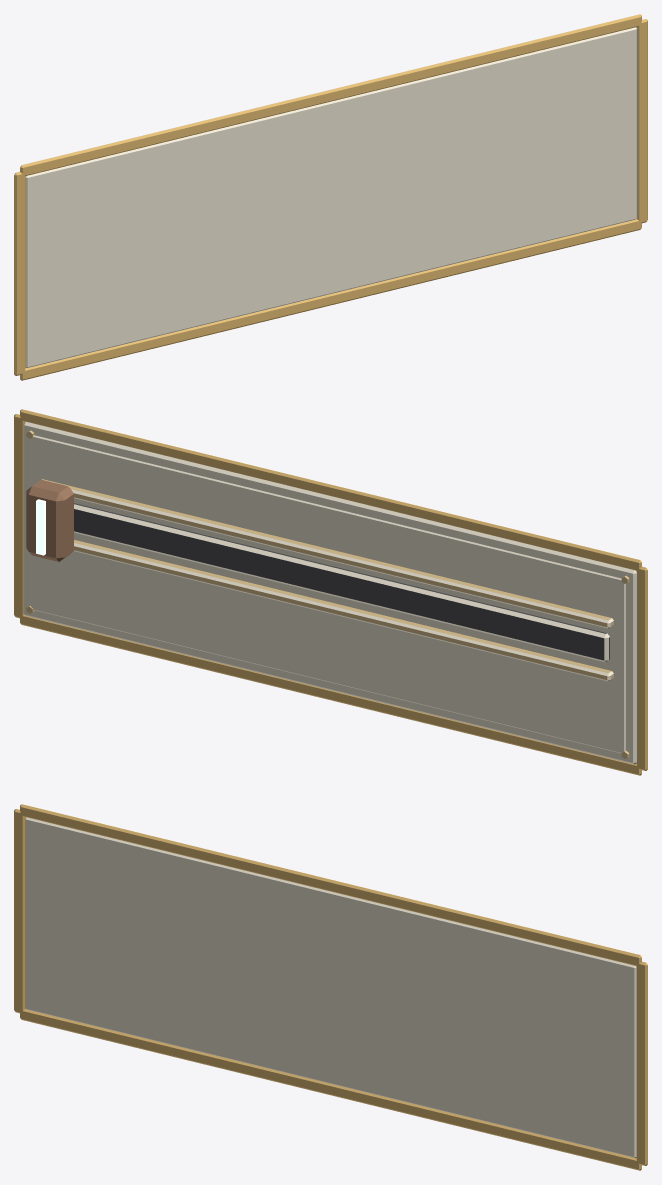
Rendered from Ctl_Slider_3x1.fbx.
3 views of the same model, one above another, from view 1: azimuth 30°, elevation 25°; view 2: azimuth 150°, elevation 25°; view 3: azimuth 330°, elevation 25° (orthographic).
Parts seen in each view (by area): view 1: Ctl_Slider_3x1, Ctl_Slider_3x1_Frame; view 2: Ctl_Slider_3x1, Ctl_Slider_3x1_Frame, Moving.011; view 3: Ctl_Slider_3x1, Ctl_Slider_3x1_Frame.
Part boxes in pixels (bbox=[...]): Ctl_Slider_3x1: bbox=[25, 27, 636, 367]; Ctl_Slider_3x1_Frame: bbox=[14, 14, 647, 380]; Ctl_Slider_3x1: bbox=[23, 421, 636, 764]; Ctl_Slider_3x1_Frame: bbox=[14, 409, 647, 775]; Moving.011: bbox=[26, 479, 73, 561]; Ctl_Slider_3x1: bbox=[25, 817, 636, 1157]; Ctl_Slider_3x1_Frame: bbox=[14, 804, 647, 1170].
Size of the model in its own units: 3.26 by 1.06 by 0.22.
